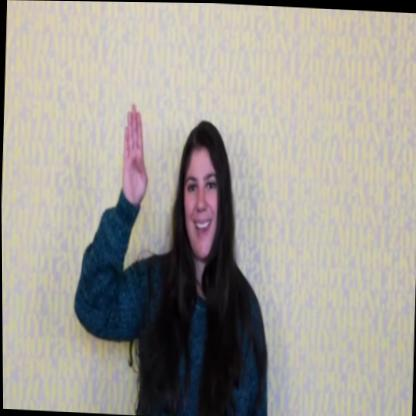Hello: (101, 82, 259, 376)
